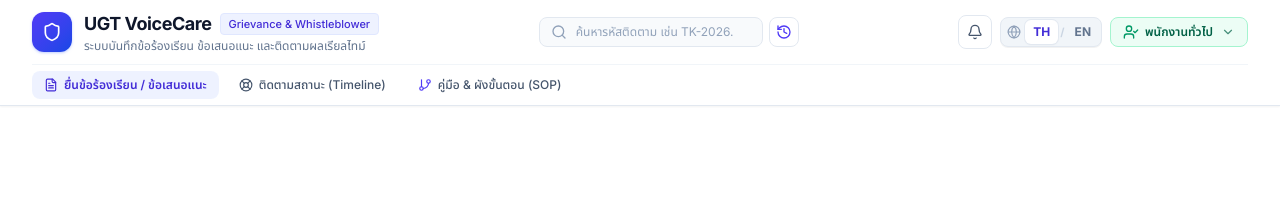
Test: Navbar › bilingual chrome › names the default identity in Thai in TH
The width and height of the screenshot is (1280, 210).
Click the button with id "btn-identity-menu" at (1179, 32), box [1110,17,1248,47]
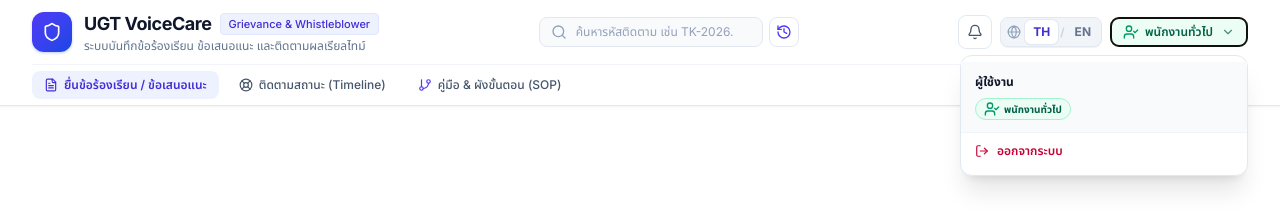
Now the text "ผู้ใช้งาน" is shown, box [975,74,1014,89]
